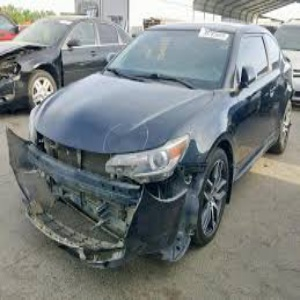bumper: (16, 180, 192, 270)
